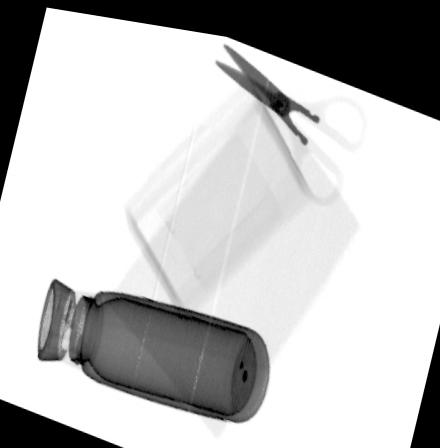Scissors: (210, 35, 360, 190)
